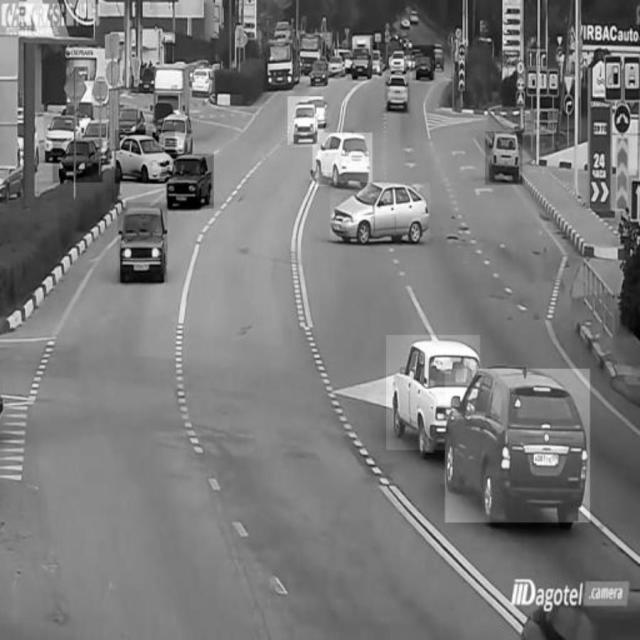vehicle: (445, 369, 591, 523), (387, 335, 480, 451), (330, 183, 430, 241), (117, 203, 167, 283), (115, 130, 176, 184), (313, 133, 373, 187), (167, 155, 214, 210), (53, 139, 103, 183), (486, 131, 523, 185), (267, 31, 305, 83), (288, 97, 324, 145), (44, 112, 72, 162), (385, 68, 411, 114), (348, 45, 378, 79), (413, 45, 435, 80), (190, 65, 215, 95)
